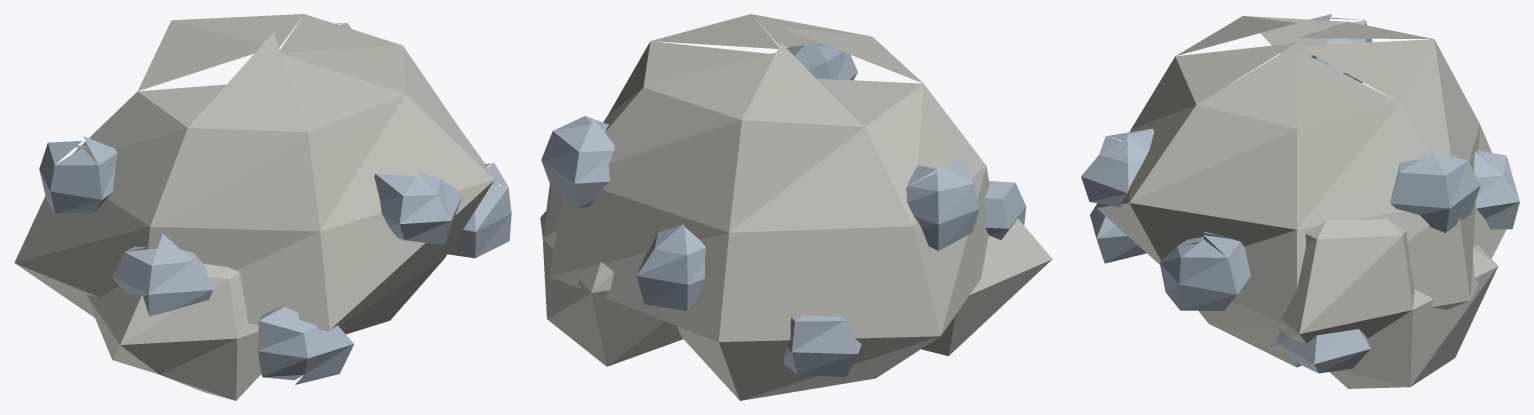
The model's file is wipe-day-survival-island-stone-ore-node-3f02480a__27421.glb.
3 views of the same model, side by side, from view 1: azimuth 30°, elevation 25°; view 2: azimuth 150°, elevation 25°; view 3: azimuth 270°, elevation 25° (orthographic). The views are drawn at different scales.
Visible parts, largest first — view 1: stone-ore-node; view 2: stone-ore-node; view 3: stone-ore-node.
Part boxes in pixels (x1,y1,x2,y2): stone-ore-node: [14, 14, 511, 400]; stone-ore-node: [540, 14, 1052, 400]; stone-ore-node: [1081, 14, 1519, 388].
Bounding box in the file's own units: 1.55 × 1.12 × 1.37.
